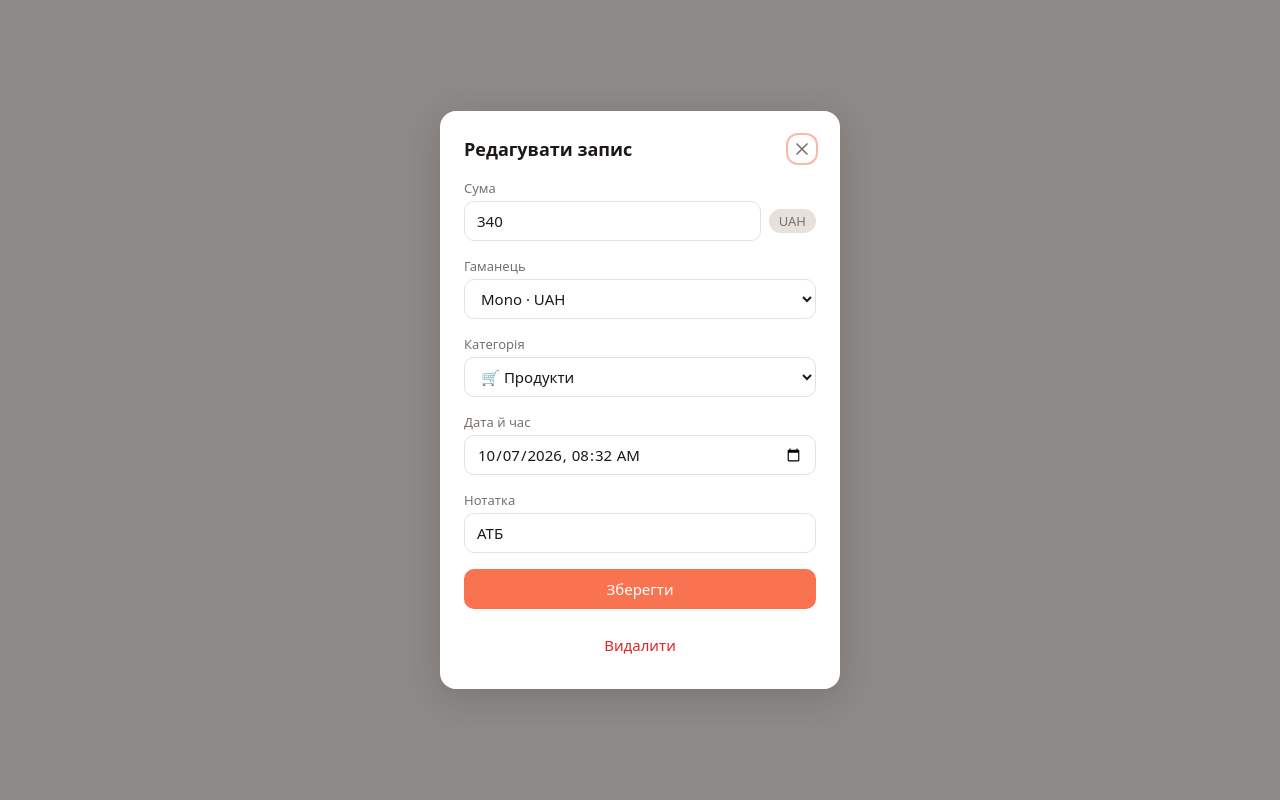
Test: ExpenseEditDialog › refuses a date in the future
The image size is (1280, 800).
Replace the text in the field labelled "Дата й час" with "2026-10-09T10:00" at {"x": 640, "y": 455}, box [464,435,816,475]
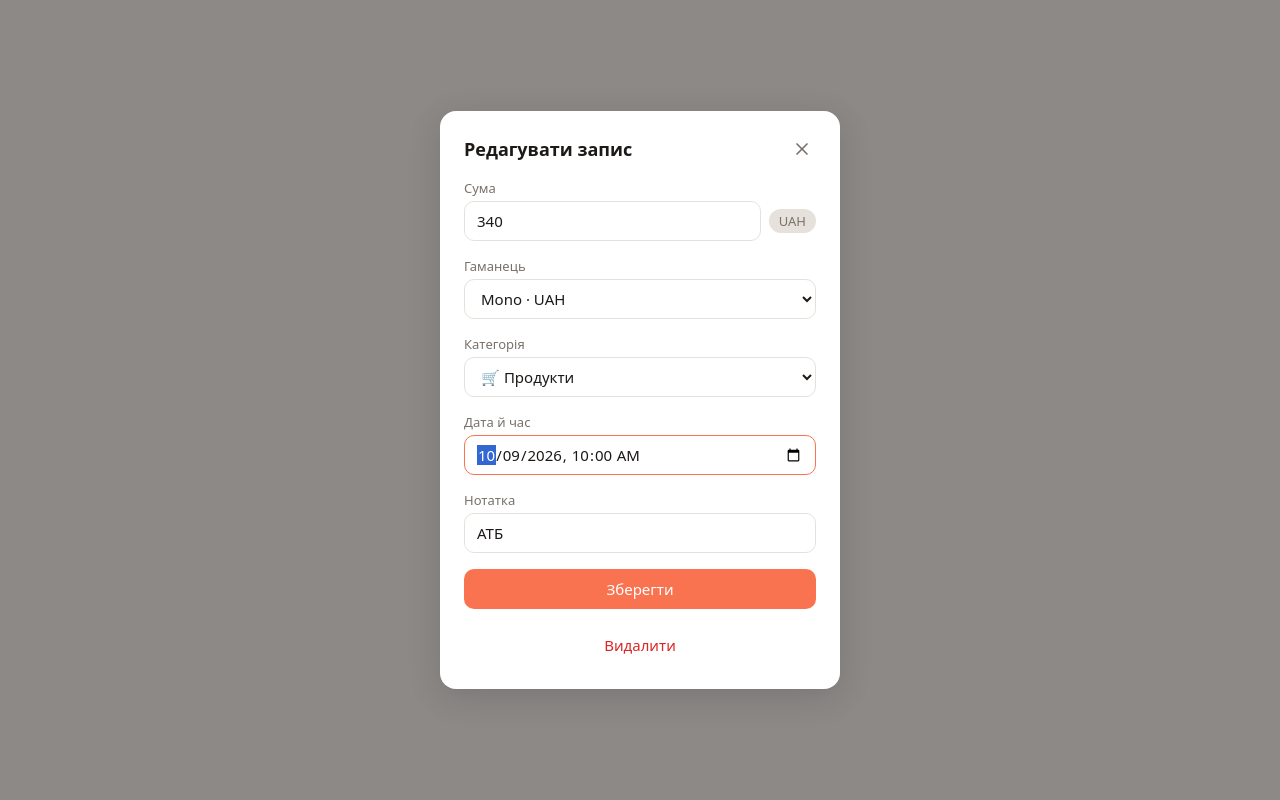
Click the button "Зберегти".
click(640, 589)  # box [464,569,816,609]
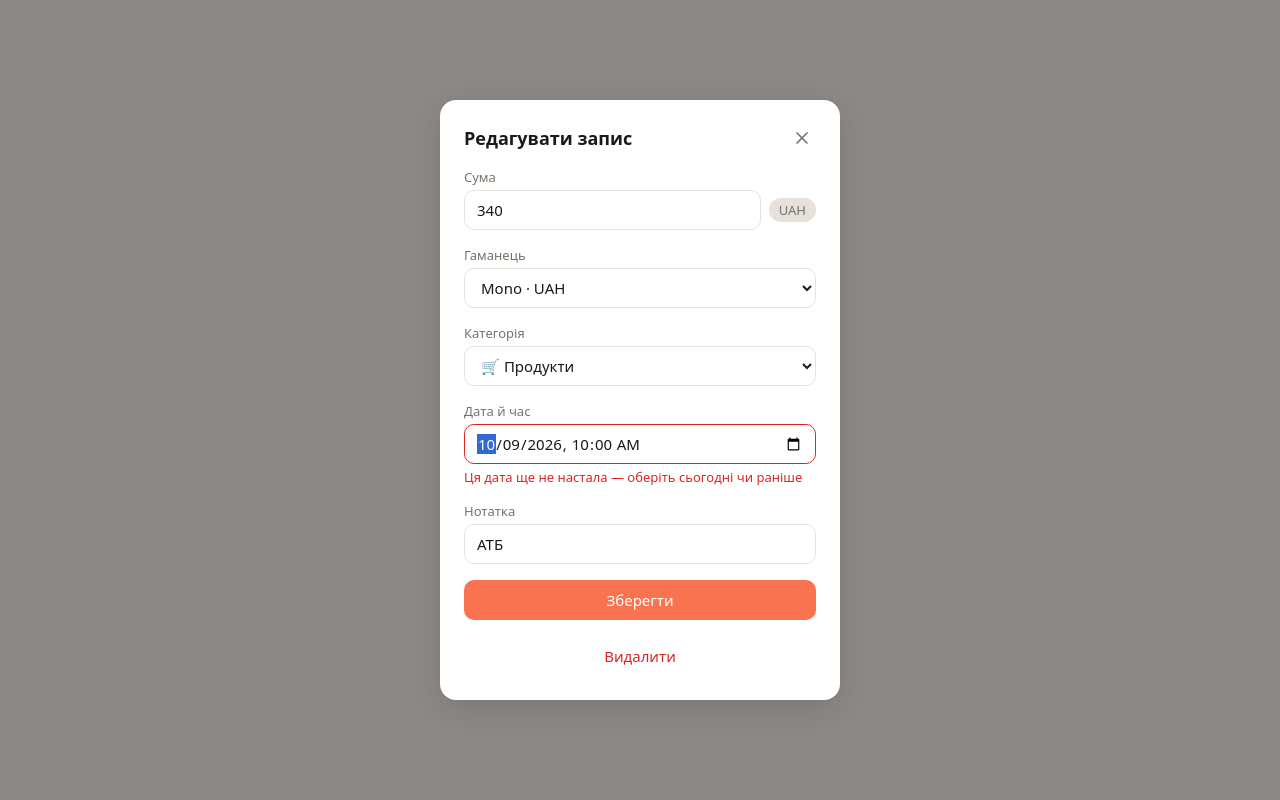
Result: the text "Ця дата ще не настала — оберіть сьогодні чи раніше" is shown at [464,468,816,486]
